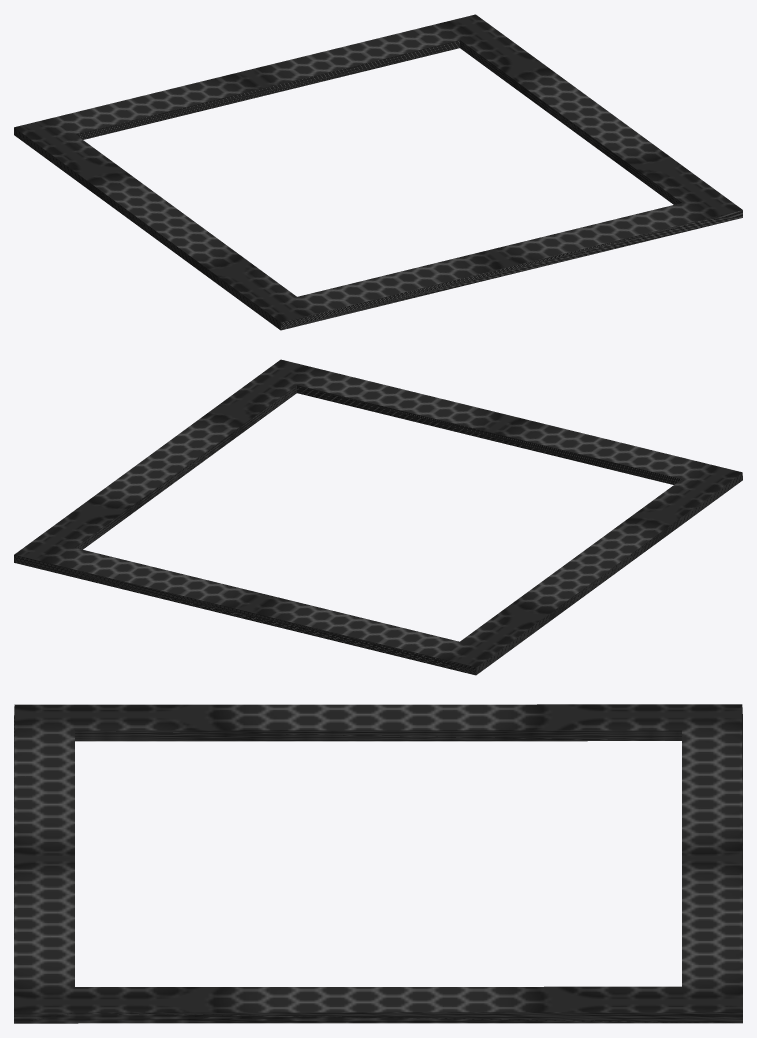
The model's file is Border.fbx.
3 renders of one model, top to bottom at view 1: azimuth 30°, elevation 25°; view 2: azimuth 150°, elevation 25°; view 3: azimuth 270°, elevation 25°, orthographic. The views are drawn at different scales.
Visible parts, largest first — view 1: Border; view 2: Border; view 3: Border.
Boxes of the visible parts, <box> form: Border: <box>14,14,742,330</box>; Border: <box>14,359,742,675</box>; Border: <box>14,704,742,1023</box>.
Bounding box in the file's own units: 12003 × 202 × 12002.
